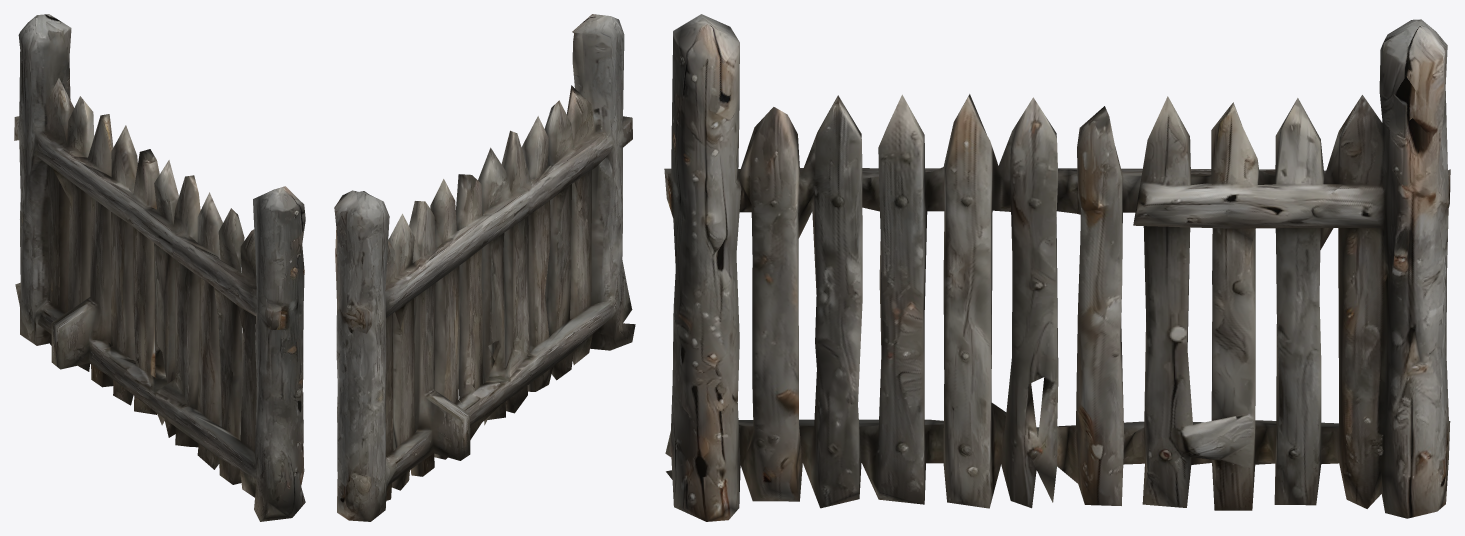
Rendered from kh_fence.glb.
3 views of the same model, side by side, from view 1: azimuth 30°, elevation 25°; view 2: azimuth 150°, elevation 25°; view 3: azimuth 270°, elevation 25° (orthographic). The views are drawn at different scales.
Visible parts, largest first — view 1: tripo_node_36012d38-2dca-4491-a13f-a9fd2fead041; view 2: tripo_node_36012d38-2dca-4491-a13f-a9fd2fead041; view 3: tripo_node_36012d38-2dca-4491-a13f-a9fd2fead041.
Part boxes in pixels (bbox=[...]): tripo_node_36012d38-2dca-4491-a13f-a9fd2fead041: bbox=[14, 14, 305, 521]; tripo_node_36012d38-2dca-4491-a13f-a9fd2fead041: bbox=[334, 14, 635, 521]; tripo_node_36012d38-2dca-4491-a13f-a9fd2fead041: bbox=[664, 14, 1450, 521].
Bounding box in the file's own units: 0.1557 × 0.6825 × 1.
Materials: 1 (1 with a texture image).
